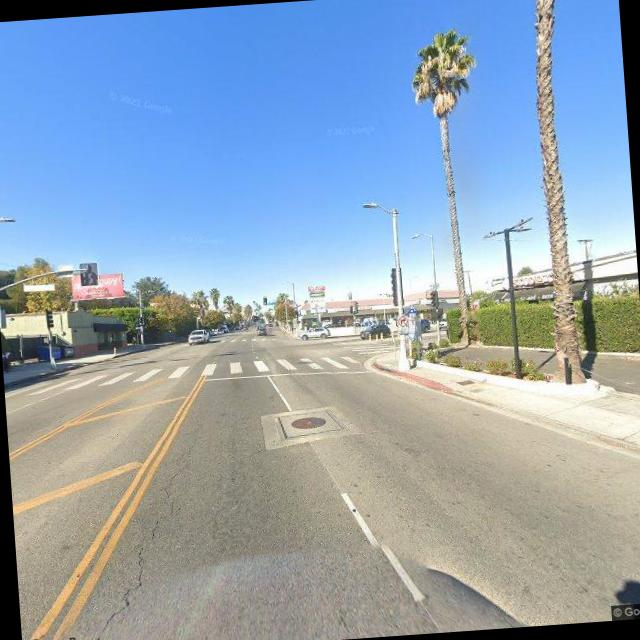pothole: (63, 458, 201, 640)
